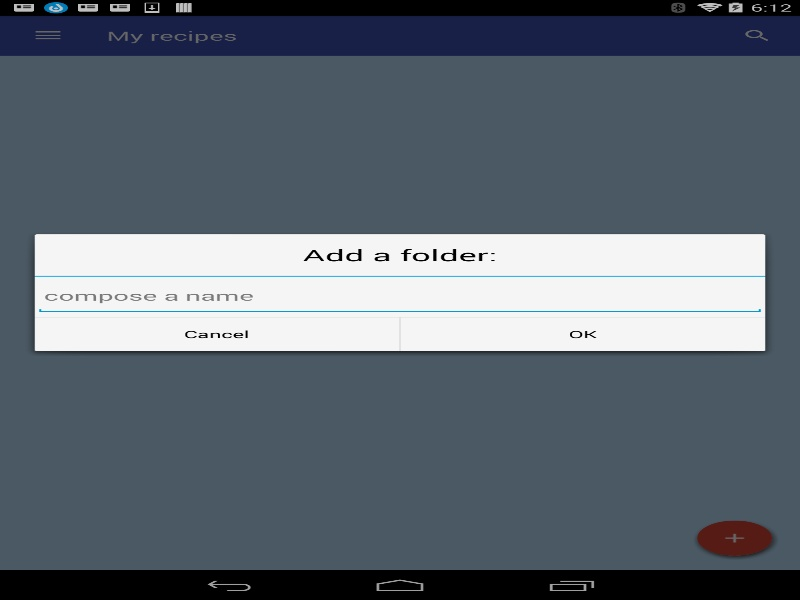Button: (34, 317, 399, 351), (400, 317, 765, 351)
Input: (34, 276, 765, 314)
